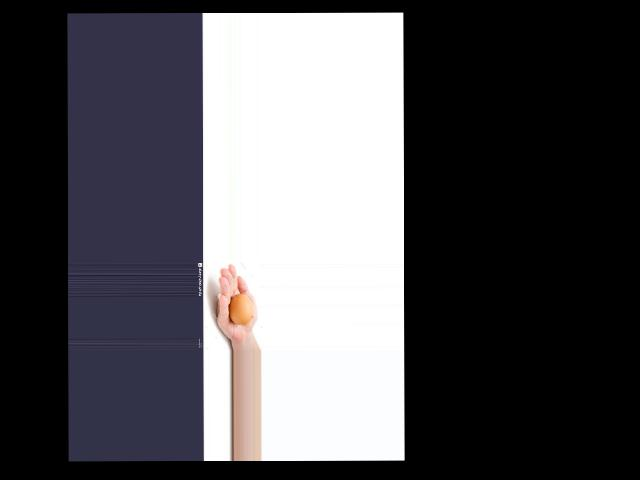egg: (229, 294, 253, 325)
